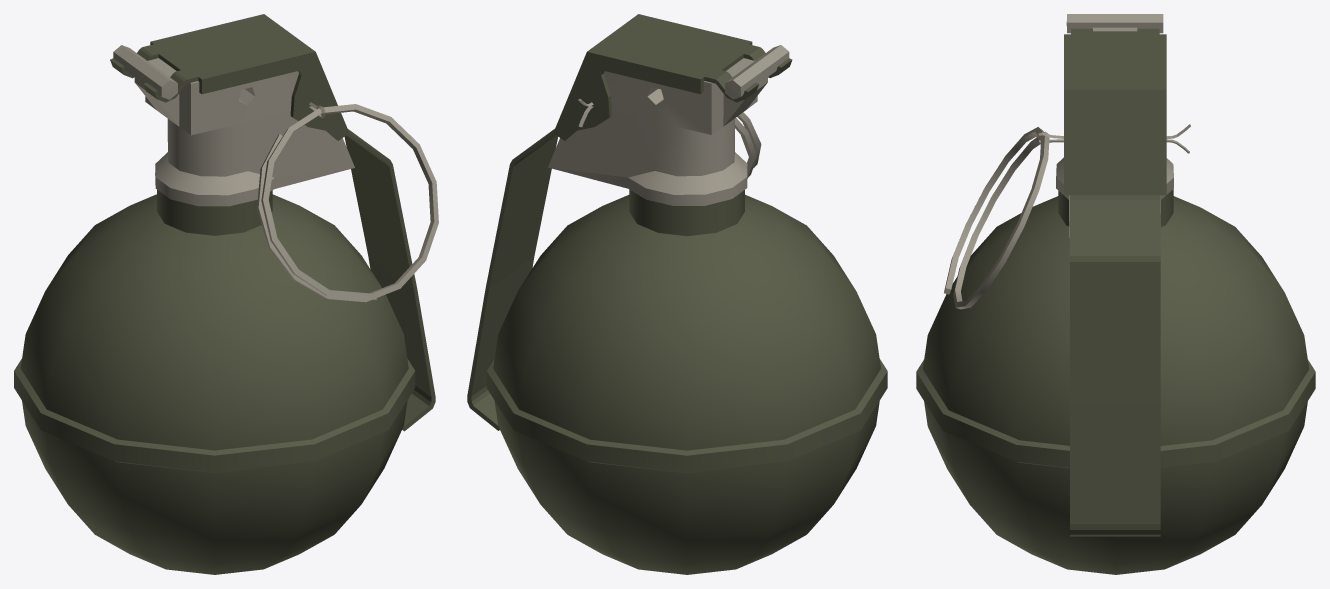
File: Mod_Grenade.glb
3 renders of one model, left to right at view 1: azimuth 30°, elevation 25°; view 2: azimuth 150°, elevation 25°; view 3: azimuth 270°, elevation 25°, orthographic.
Parts seen in each view (by area): view 1: Mod_Grenade; view 2: Mod_Grenade; view 3: Mod_Grenade.
Boxes of the visible parts, bbox=[...] form: Mod_Grenade: bbox=[14, 14, 438, 574]; Mod_Grenade: bbox=[467, 14, 887, 574]; Mod_Grenade: bbox=[916, 14, 1315, 574].
Bounding box in the file's own units: 0.0785 × 0.1034 × 0.0735.
Materials: 1 (1 with a texture image).
